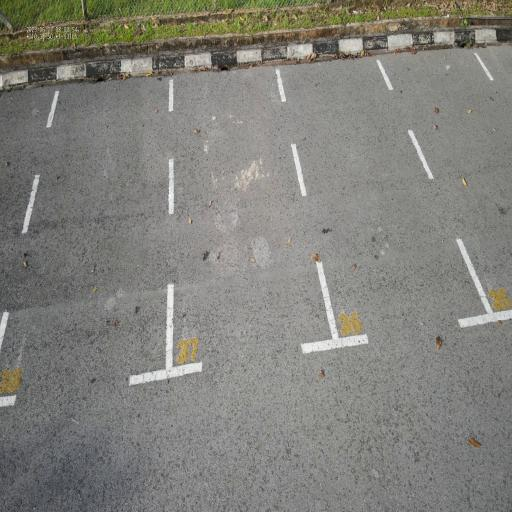Empty: (162, 60, 341, 384)
